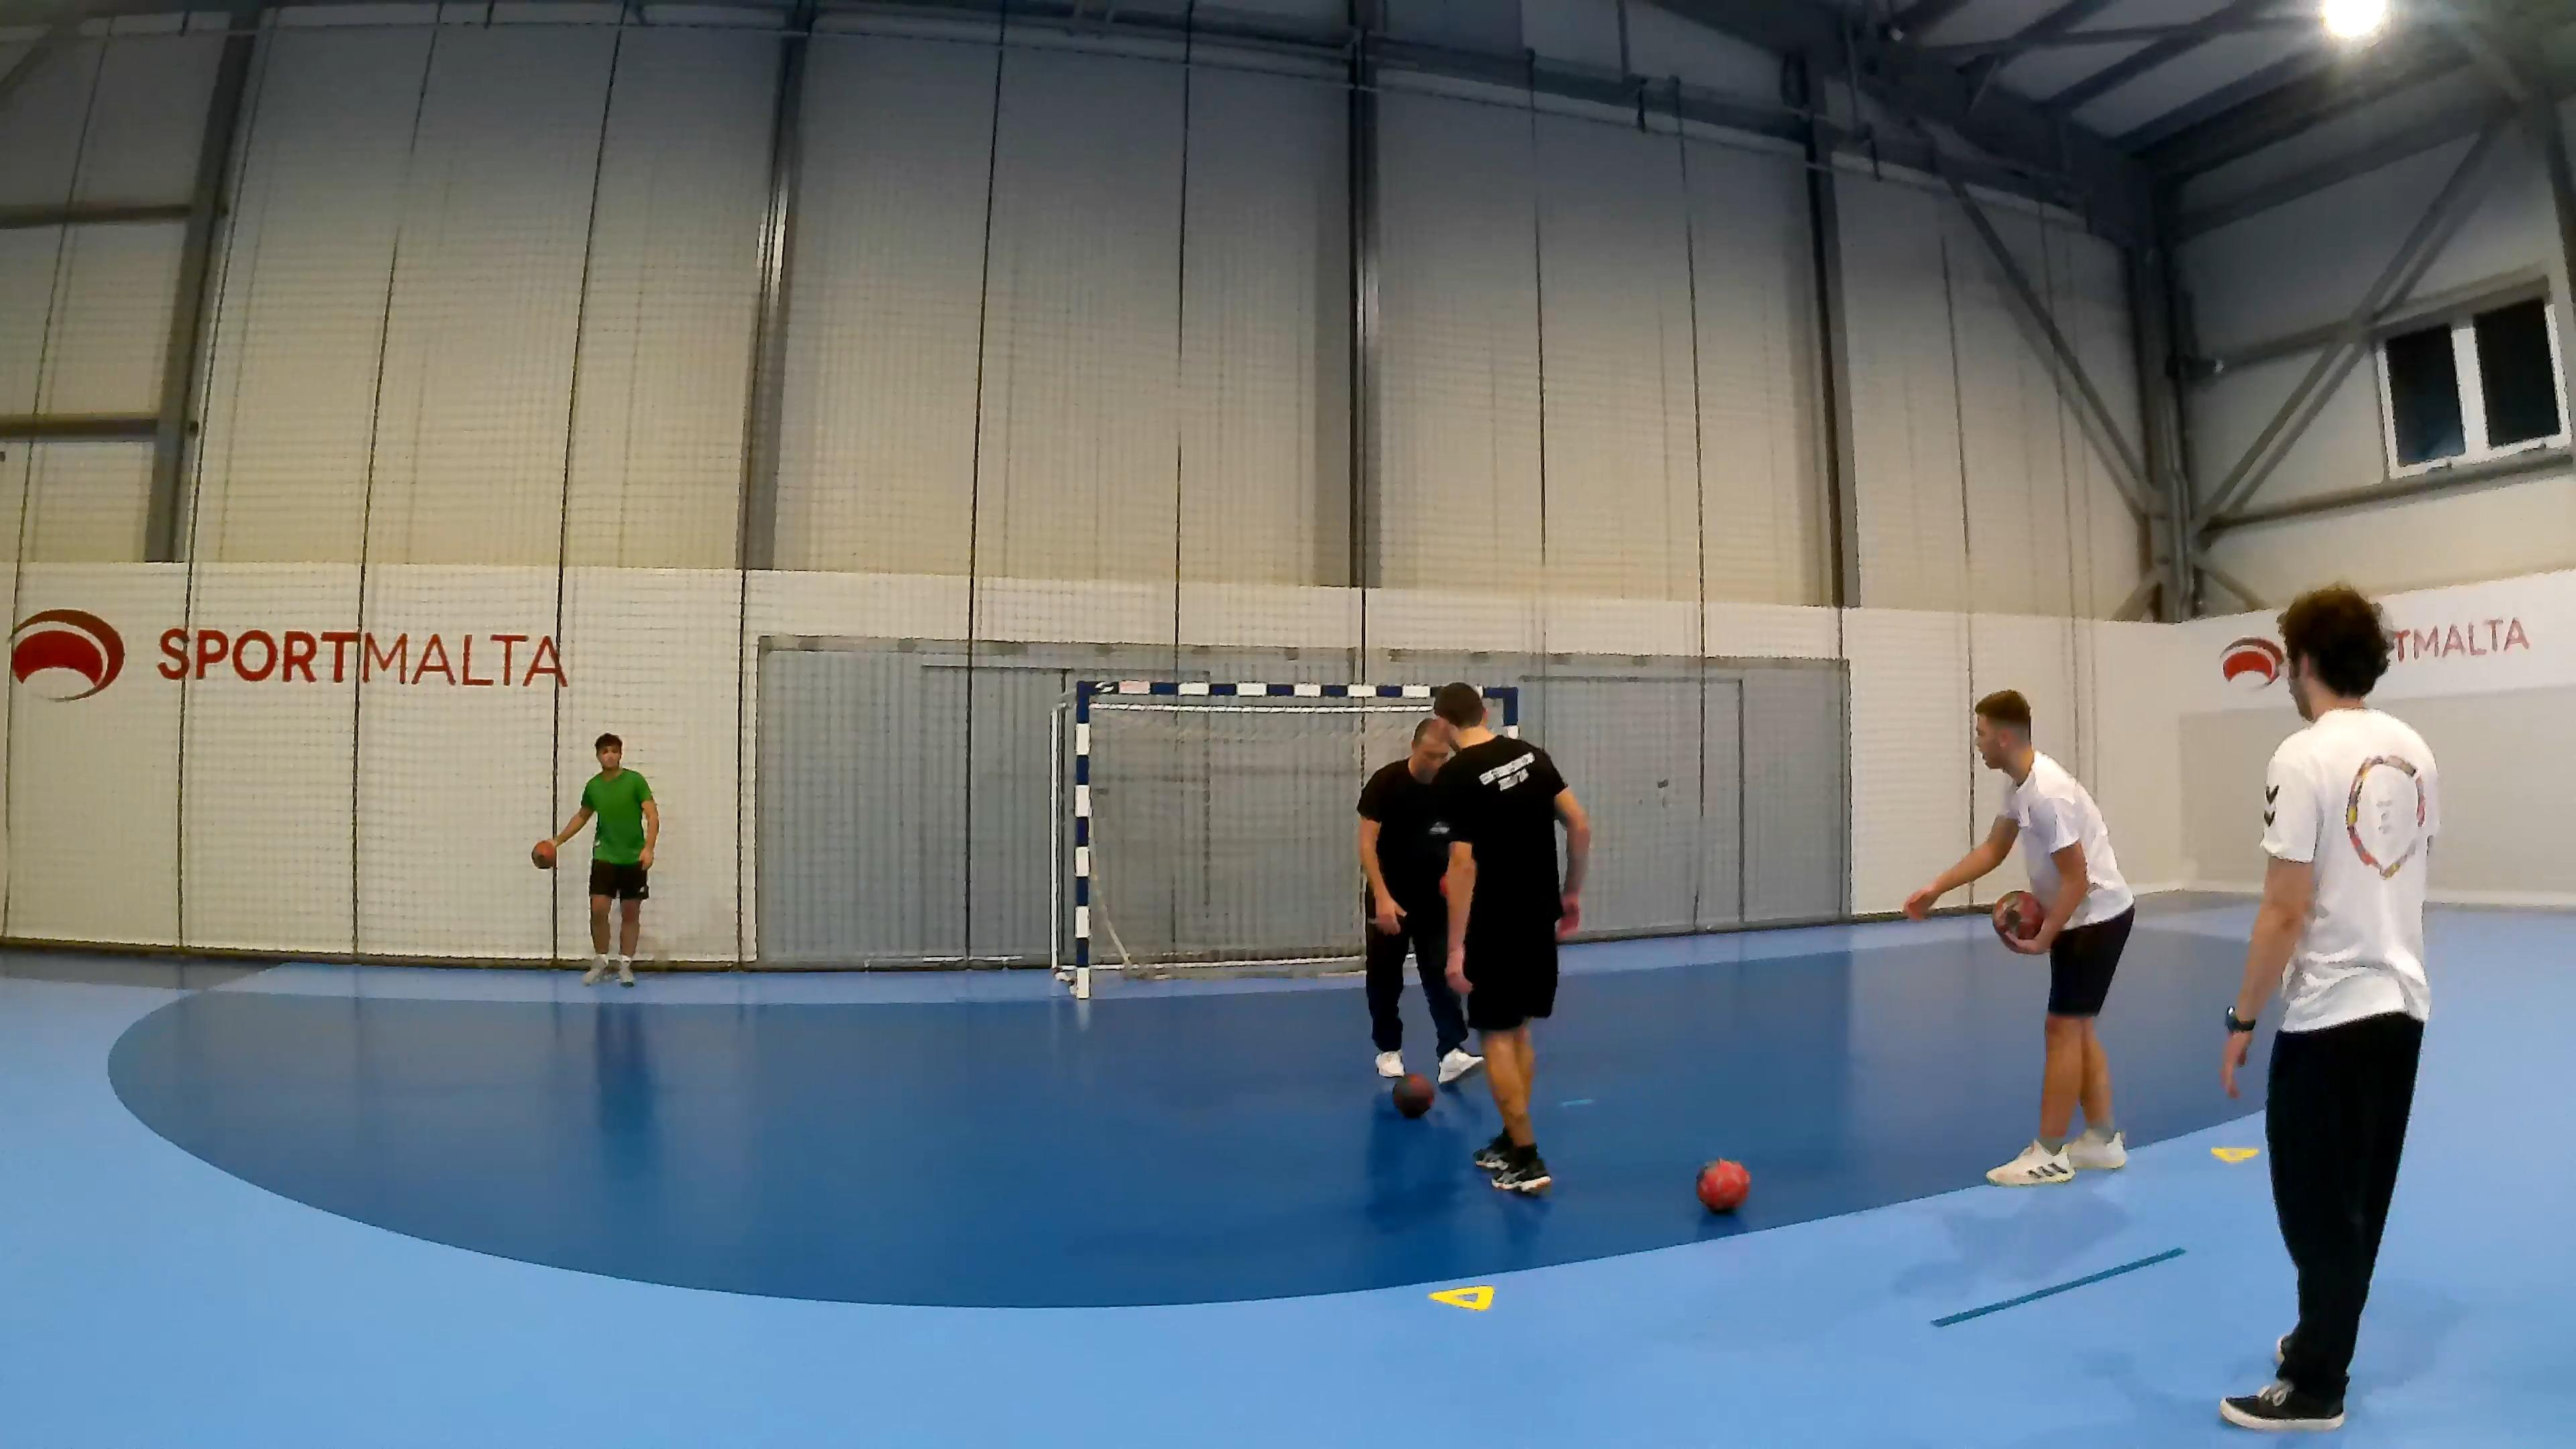handball: (1695, 1157, 1750, 1212), (1990, 890, 2043, 939), (1391, 1072, 1435, 1118), (531, 839, 556, 869)
